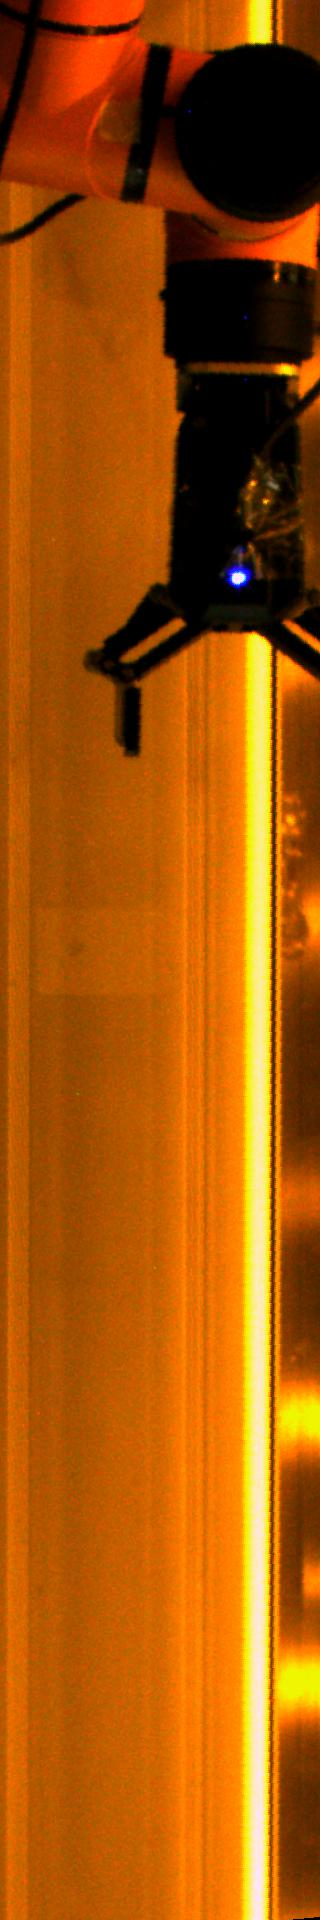keyPoint_1: (224, 563, 254, 593)
